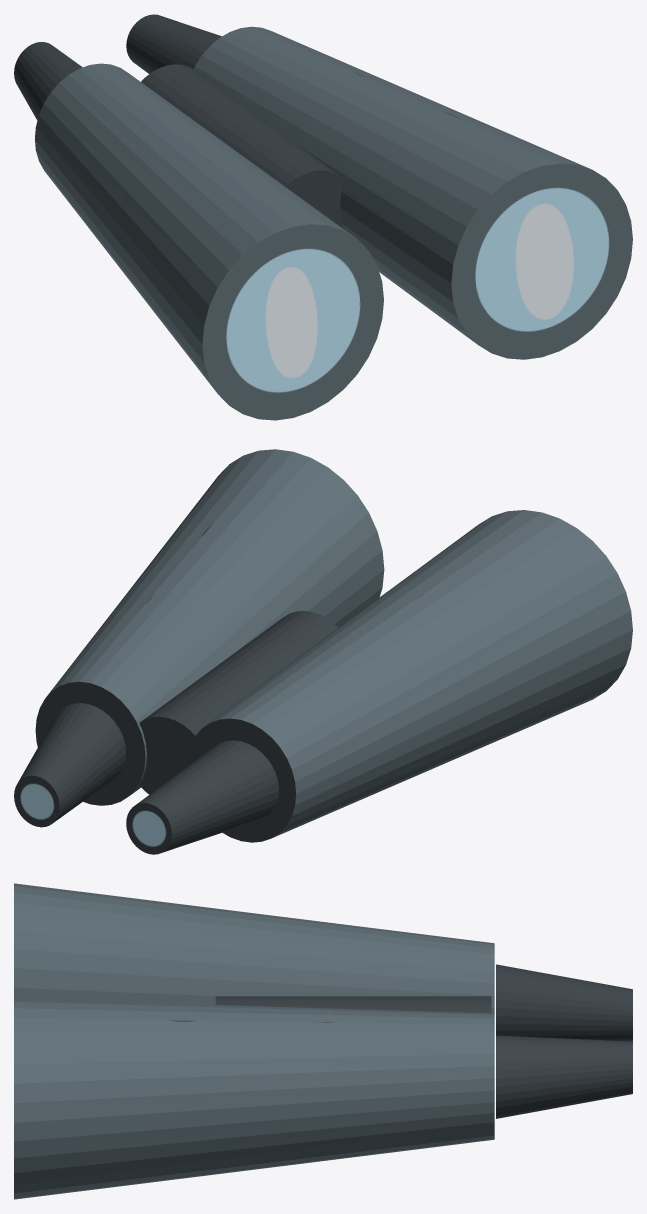
The model's file is Player.obj.
3 renders of one model, top to bottom at view 1: azimuth 30°, elevation 25°; view 2: azimuth 150°, elevation 25°; view 3: azimuth 270°, elevation 25°, orthographic. The views are drawn at different scales.
Parts seen in each view (by area): view 1: 円柱.004; view 2: 円柱.004; view 3: 円柱.004.
Part boxes in pixels (<box>): 円柱.004: <box>14,14,632,420</box>; 円柱.004: <box>14,449,632,854</box>; 円柱.004: <box>14,883,632,1199</box>.
Size of the model in its own units: 1.78 by 0.7576 by 2.33.
1 material, 1 textured.
